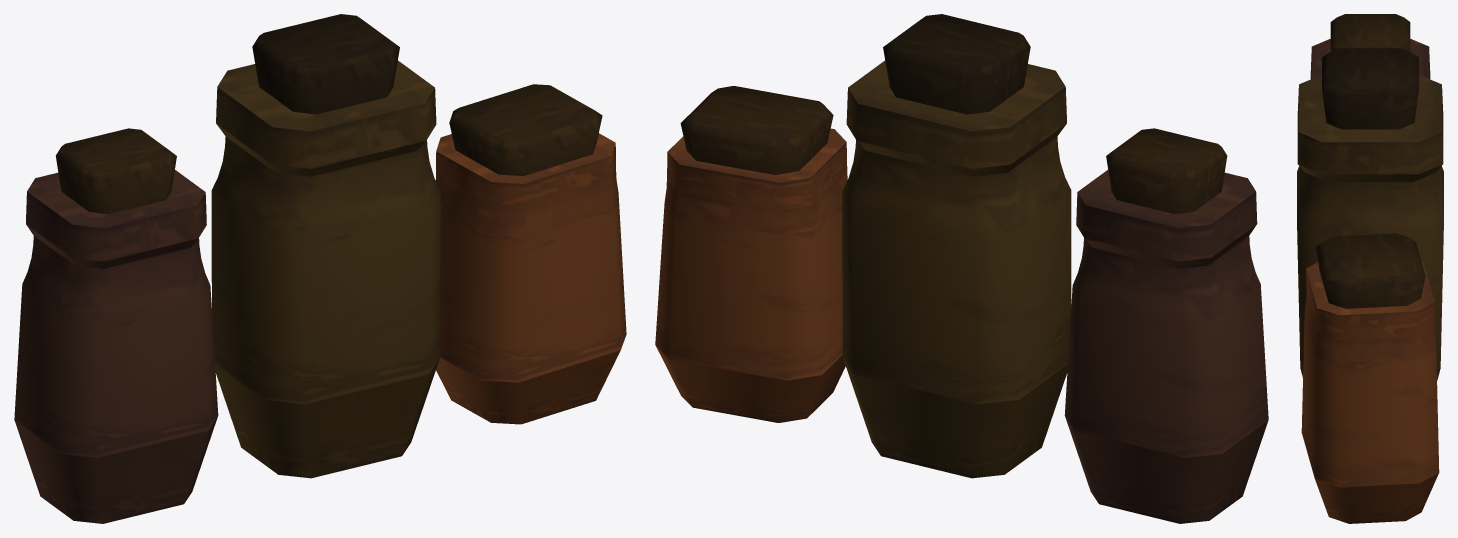
Rendered from SmallBottles_1.gltf.
3 renders of one model, left to right at view 1: azimuth 30°, elevation 25°; view 2: azimuth 150°, elevation 25°; view 3: azimuth 270°, elevation 25°, orthographic. The views are drawn at different scales.
Parts seen in each view (by area): view 1: SmallBottles_1; view 2: SmallBottles_1; view 3: SmallBottles_1.
Boxes of the visible parts, bbox=[...] form: SmallBottles_1: bbox=[14, 14, 626, 523]; SmallBottles_1: bbox=[655, 14, 1268, 523]; SmallBottles_1: bbox=[1297, 14, 1443, 523].
Bounding box in the file's own units: 0.2151 × 0.1454 × 0.0558.
1 material, 1 textured.
